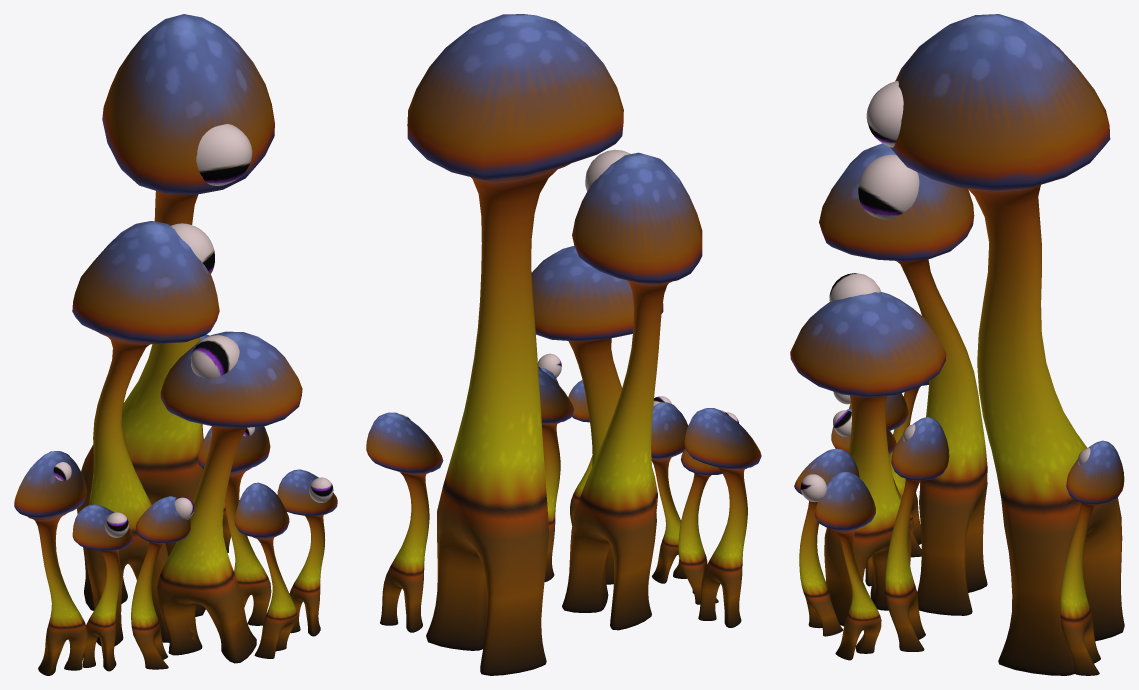
The model's file is Shroom1Cluster2.fbx.
The picture shows the model from 3 angles, left to right: view 1: azimuth 30°, elevation 25°; view 2: azimuth 150°, elevation 25°; view 3: azimuth 270°, elevation 25°; orthographic projection. The views are drawn at different scales.
Visible parts, largest first — view 1: Shroom1Cluster2; view 2: Shroom1Cluster2; view 3: Shroom1Cluster2.
Boxes of the visible parts, left/top/right/bottom form: Shroom1Cluster2: left=14, top=14, right=337, bottom=675; Shroom1Cluster2: left=366, top=14, right=761, bottom=675; Shroom1Cluster2: left=790, top=14, right=1124, bottom=675.
Size of the model in its own units: 5.47 by 10.6 by 5.03.
